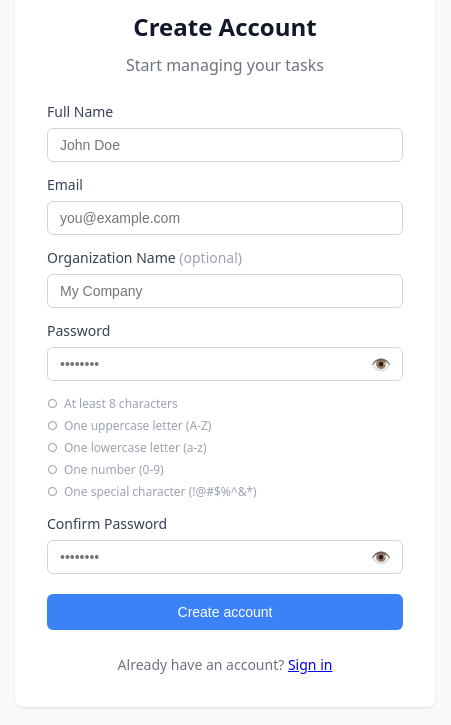
Test: Register Page › TC-REG-UI-005: Shows password mismatch error
Type "Password123!" into the password field labelled "Password" at (225, 364), box left=47, top=347, right=403, bottom=381
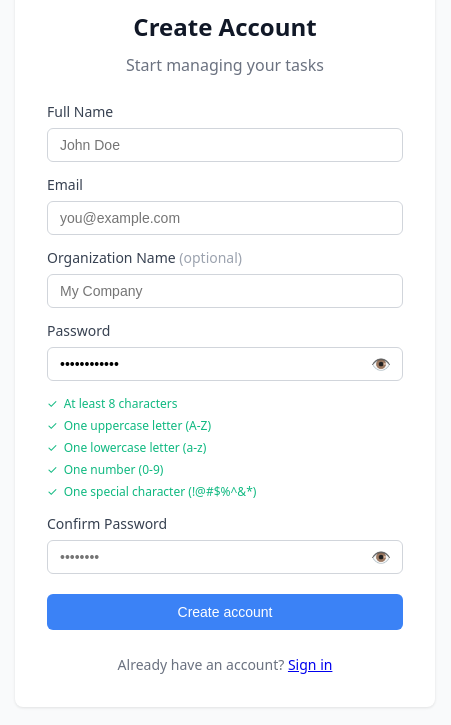
Type "DifferentPass123!" into the password field labelled "Confirm Password" at (225, 557), box left=47, top=540, right=403, bottom=574
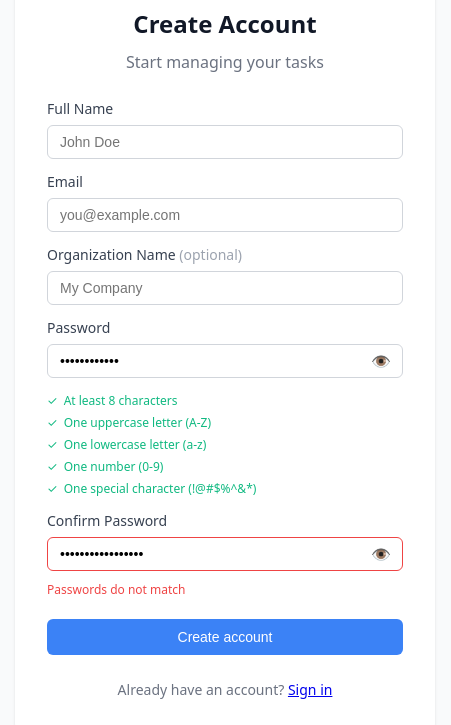
Expected: the text "Passwords do not match" is shown, left=47, top=581, right=186, bottom=598
